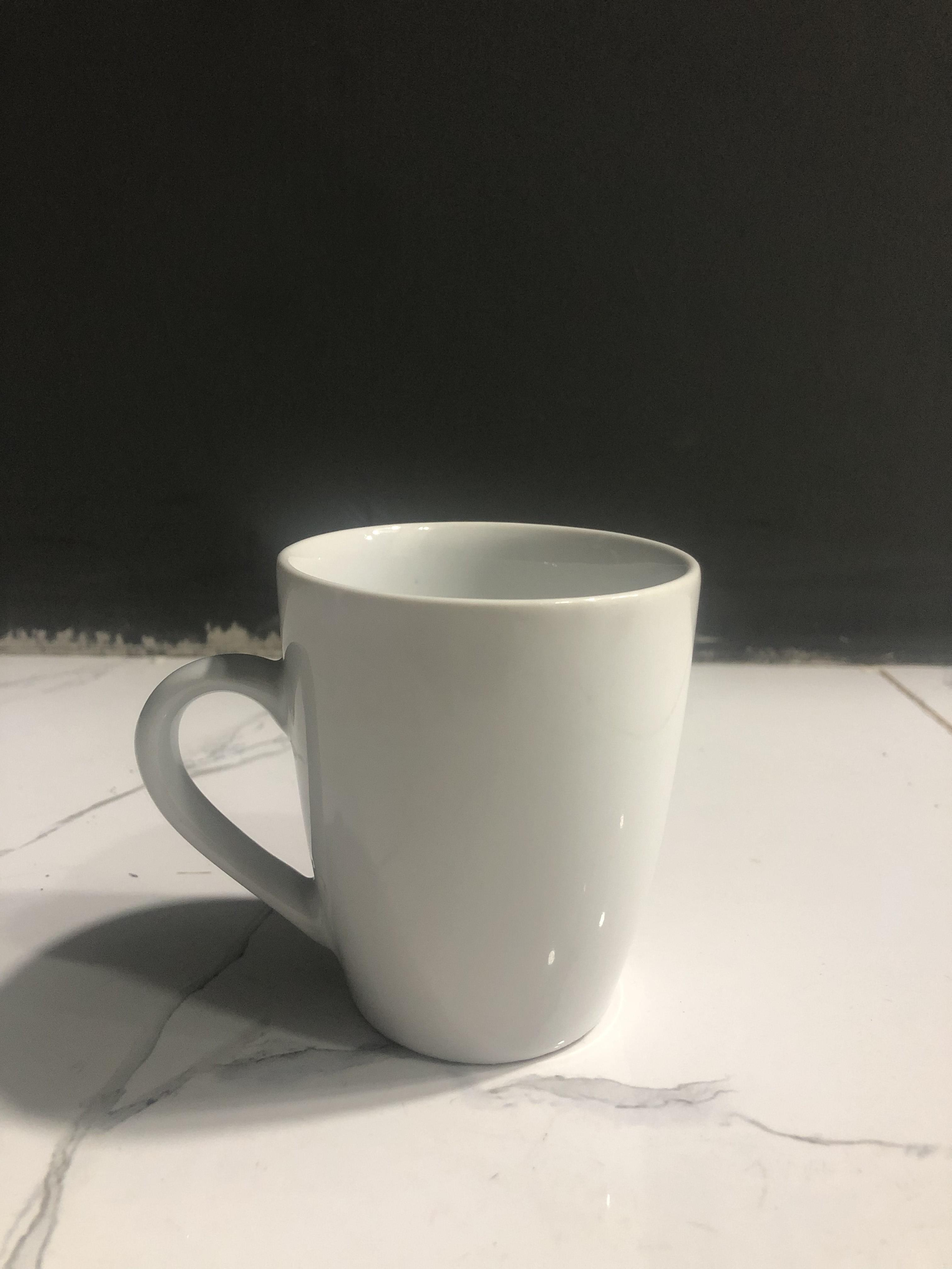cup-handle: (132, 519, 707, 1068)
